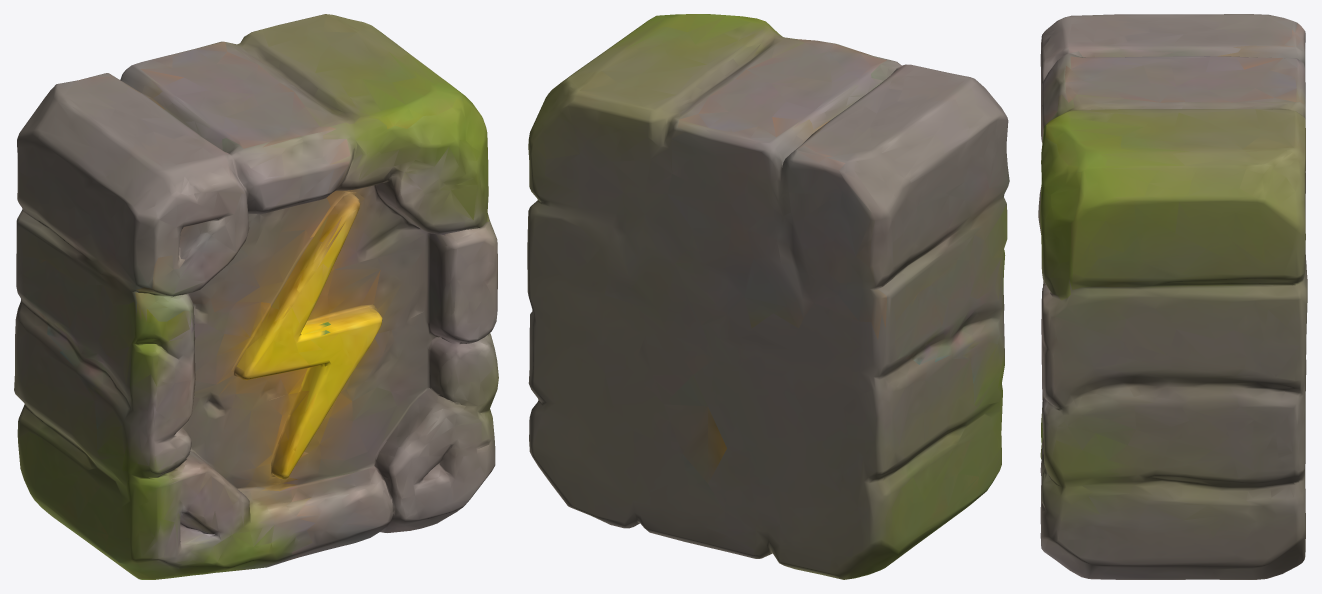
Rendered from bloque_runa_amarilla.glb.
The picture shows the model from 3 angles, left to right: view 1: azimuth 30°, elevation 25°; view 2: azimuth 150°, elevation 25°; view 3: azimuth 270°, elevation 25°; orthographic projection.
Visible parts, largest first — view 1: bloque_runa_amarilla_malla; view 2: bloque_runa_amarilla_malla; view 3: bloque_runa_amarilla_malla.
Part boxes in pixels (left/top/right/bottom): bloque_runa_amarilla_malla: left=14, top=14, right=498, bottom=579; bloque_runa_amarilla_malla: left=527, top=14, right=1009, bottom=579; bloque_runa_amarilla_malla: left=1038, top=14, right=1307, bottom=579.
Size of the model in its own units: 0.1573 by 0.1773 by 0.1018.
Materials: 1 (1 with a texture image).
